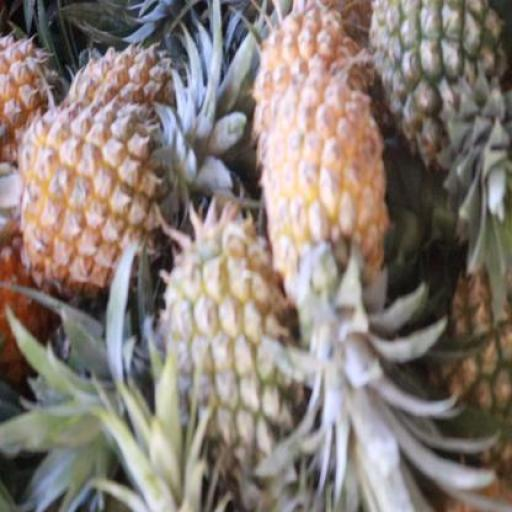------------------------------: (139, 229, 284, 479), (376, 0, 508, 181)
Pineapple - v8 v1: (268, 85, 381, 329), (20, 113, 158, 294)
